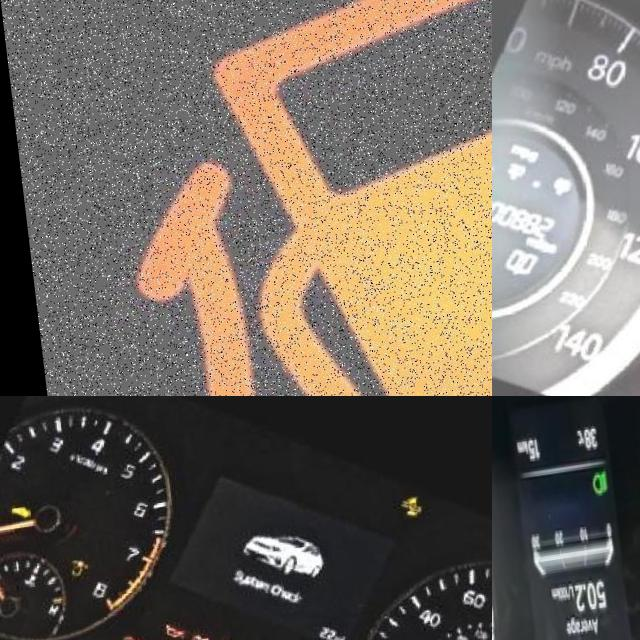High Engine Coolant Temperature: (21, 573, 38, 589)
